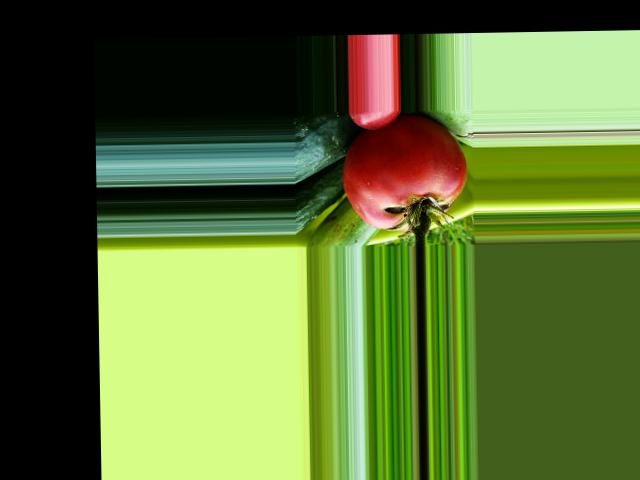tomato: (342, 111, 468, 229)
